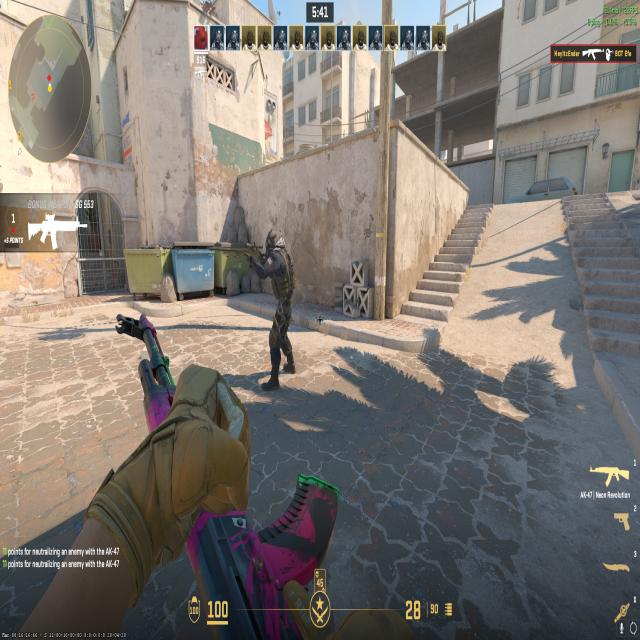ct: (250, 222, 299, 400)
